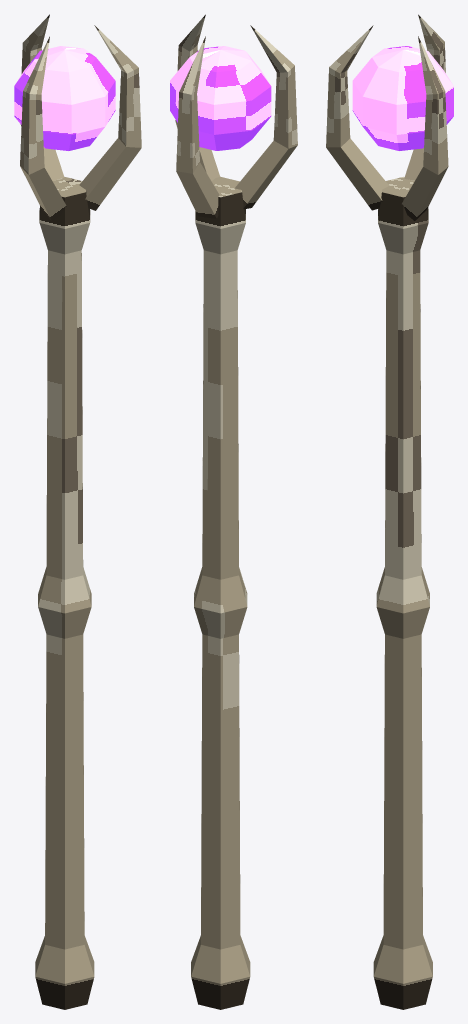
The model's file is wand_bone.glb.
3 views of the same model, side by side, from view 1: azimuth 30°, elevation 25°; view 2: azimuth 150°, elevation 25°; view 3: azimuth 330°, elevation 25° (orthographic).
Parts seen in each view (by area): view 1: wand_bone; view 2: wand_bone; view 3: wand_bone.
Part boxes in pixels (x1,y1,x2,y2): wand_bone: (14, 14, 141, 1009); wand_bone: (170, 14, 297, 1009); wand_bone: (326, 14, 453, 1009).
Bounding box in the file's own units: 0.0807 × 0.66 × 0.0749.
Materials: 1 (1 with a texture image).
